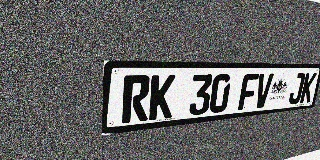0: (208, 74, 232, 114)
3: (188, 74, 213, 116)
F: (238, 74, 259, 110)
J: (288, 73, 306, 105)
K: (148, 75, 176, 120), (299, 73, 317, 103)
R: (122, 75, 151, 123)
V: (253, 73, 274, 109)
